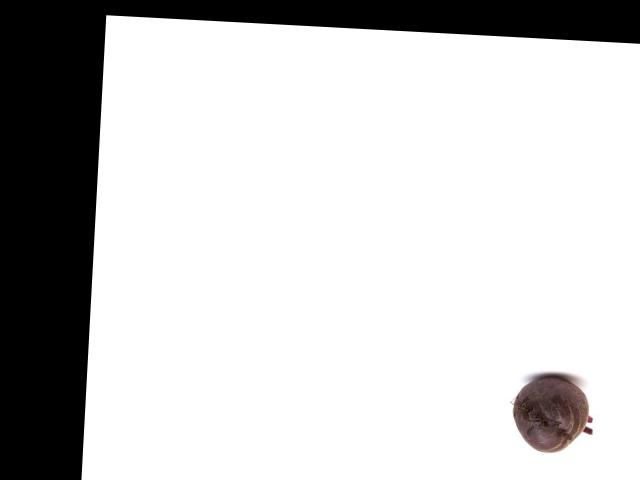beet: (510, 373, 594, 455)
